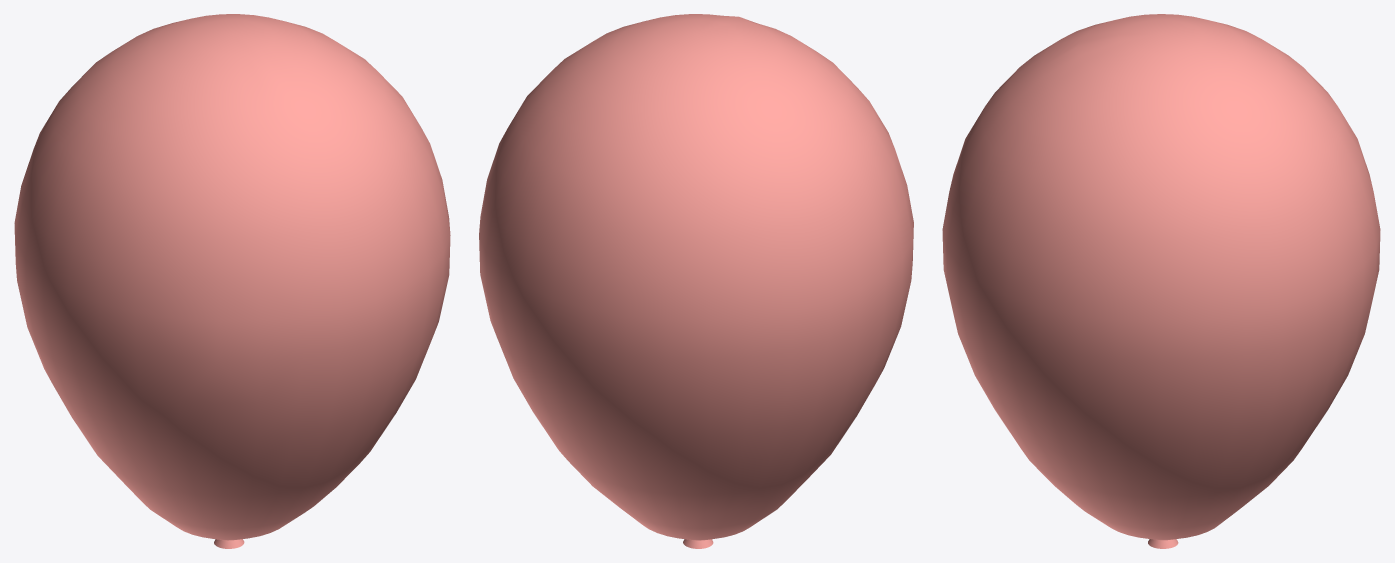
File: balloon01.glb
3 views of the same model, side by side, from view 1: azimuth 30°, elevation 25°; view 2: azimuth 150°, elevation 25°; view 3: azimuth 270°, elevation 25° (orthographic).
Parts seen in each view (by area): view 1: Balloon.001; view 2: Balloon.001; view 3: Balloon.001.
Part boxes in pixels (left/top/right/bottom): Balloon.001: left=14, top=14, right=450, bottom=548; Balloon.001: left=479, top=14, right=913, bottom=548; Balloon.001: left=942, top=14, right=1380, bottom=548.
Bounding box in the file's own units: 0.2582 × 0.3317 × 0.2582.
